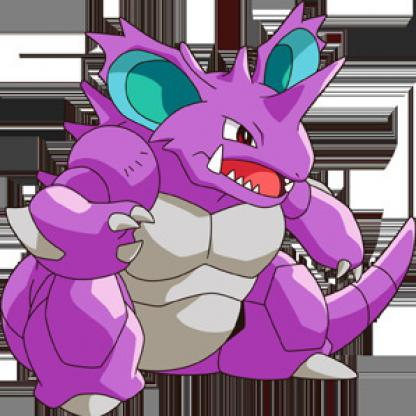Nidoking: (10, 15, 409, 404)
